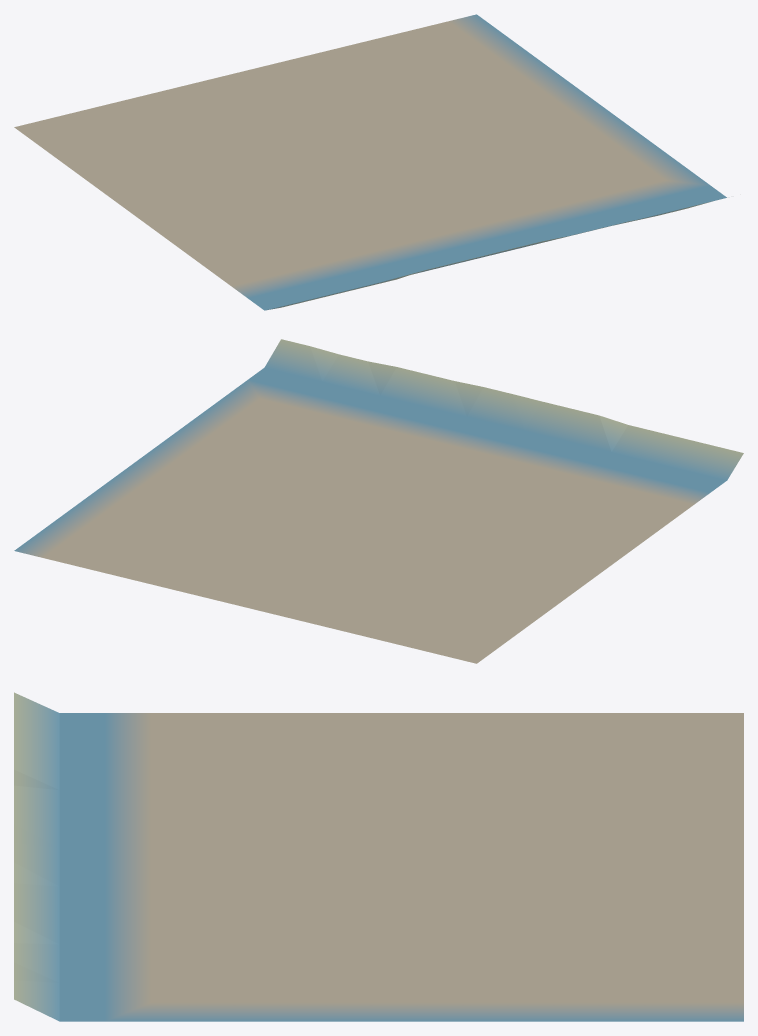
3 renders of one model, top to bottom at view 1: azimuth 30°, elevation 25°; view 2: azimuth 150°, elevation 25°; view 3: azimuth 270°, elevation 25°, orthographic. The views are drawn at different scales.
Size of the model in its own units: 32 by 1.17 by 32.
